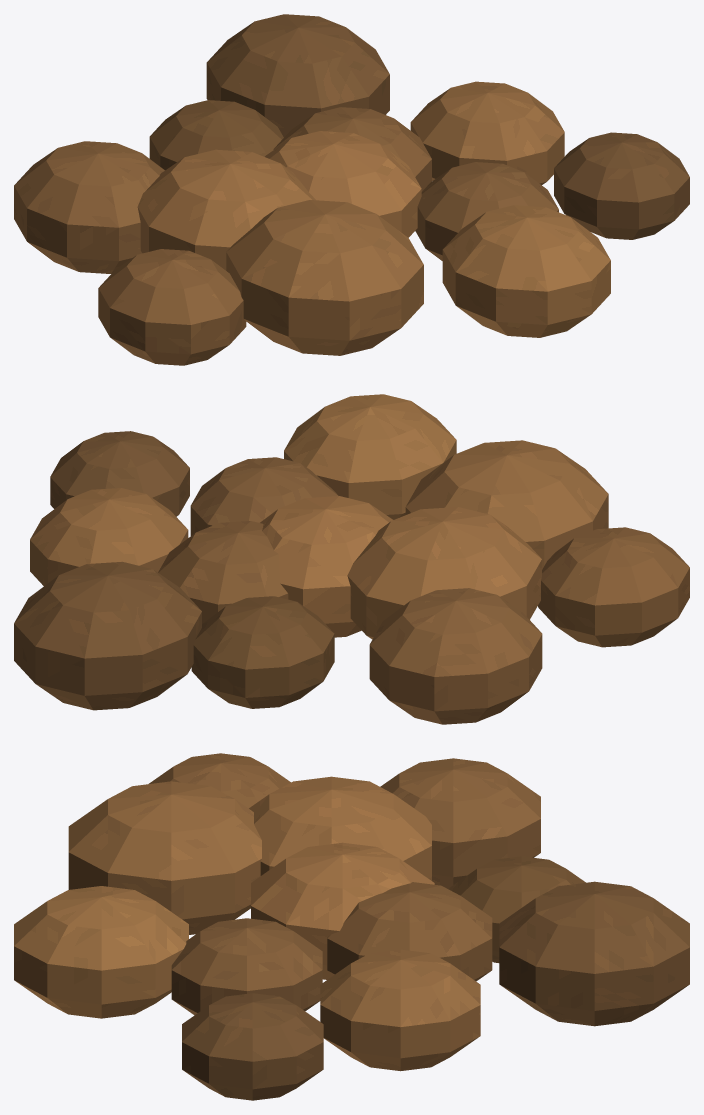
Rendered from chaff.glb.
The picture shows the model from 3 angles, top to bottom: view 1: azimuth 30°, elevation 25°; view 2: azimuth 150°, elevation 25°; view 3: azimuth 270°, elevation 25°; orthographic projection. The views are drawn at different scales.
Parts seen in each view (by area): view 1: block_grain 5, block_grain 8, block_grain 9, block_grain 7, block_grain 10, block_grain 2, block_grain 11, block_grain 6, block_grain 0, block_grain 3, block_grain 4, block_grain 1; view 2: block_grain 9, block_grain 7, block_grain 2, block_grain 10, block_grain 5, block_grain 8, block_grain 4, block_grain 0, block_grain 6, block_grain 1, block_grain 11, block_grain 3; view 3: block_grain 9, block_grain 5, block_grain 8, block_grain 6, block_grain 7, block_grain 11, block_grain 2, block_grain 3, block_grain 0, block_grain 1, block_grain 4, block_grain 10.
Part boxes in pixels (x1,y1,x2,y2): block_grain 5: [226, 200, 423, 355]; block_grain 8: [442, 205, 610, 337]; block_grain 9: [206, 14, 389, 137]; block_grain 7: [14, 141, 164, 273]; block_grain 10: [98, 249, 246, 365]; block_grain 2: [137, 149, 315, 270]; block_grain 11: [554, 132, 689, 239]; block_grain 6: [410, 81, 564, 184]; block_grain 0: [265, 131, 421, 237]; block_grain 3: [415, 162, 558, 260]; block_grain 4: [149, 100, 283, 170]; block_grain 1: [273, 107, 431, 191]; block_grain 9: [14, 561, 201, 710]; block_grain 7: [369, 588, 542, 724]; block_grain 2: [347, 507, 541, 639]; block_grain 10: [538, 527, 689, 647]; block_grain 5: [405, 440, 608, 569]; block_grain 8: [284, 394, 456, 519]; block_grain 4: [191, 596, 334, 708]; block_grain 0: [260, 496, 392, 637]; block_grain 6: [30, 488, 188, 585]; block_grain 1: [158, 521, 288, 624]; block_grain 11: [50, 431, 189, 516]; block_grain 3: [190, 457, 338, 535]; block_grain 9: [499, 881, 689, 1026]; block_grain 5: [68, 781, 261, 934]; block_grain 8: [14, 886, 188, 1018]; block_grain 6: [320, 949, 480, 1071]; block_grain 7: [380, 758, 540, 889]; block_grain 11: [182, 993, 323, 1100]; block_grain 2: [249, 776, 431, 880]; block_grain 3: [171, 918, 322, 1015]; block_grain 0: [251, 842, 434, 979]; block_grain 1: [327, 882, 492, 981]; block_grain 4: [449, 856, 585, 962]; block_grain 10: [149, 753, 290, 808].
Size of the model in its own units: 0.0228 by 0.00472 by 0.0224.
Materials: 1 (1 with a texture image).
